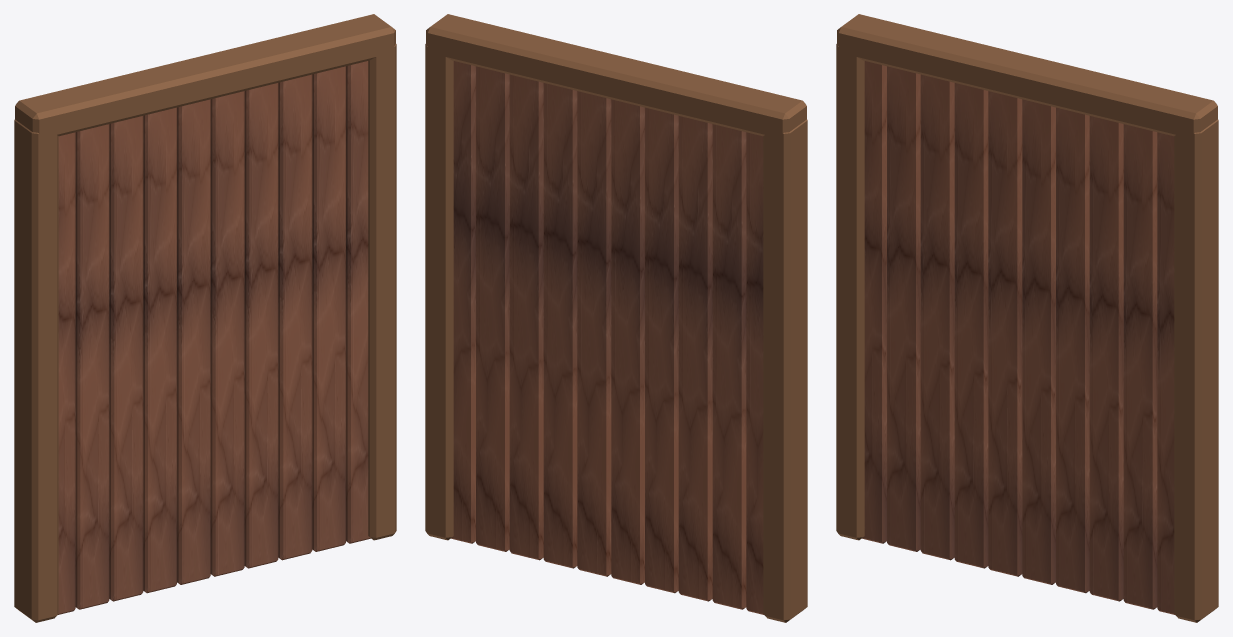
Rendered from Wall_Solid_2m.glb.
3 renders of one model, left to right at view 1: azimuth 30°, elevation 25°; view 2: azimuth 150°, elevation 25°; view 3: azimuth 330°, elevation 25°, orthographic.
Visible parts, largest first — view 1: Wall_Solid_2m__立方体.010, Wall_Solid_2m__立方体.012, Wall_Solid_2m__立方体.001, Wall_Solid_2m__立方体.005, Wall_Solid_2m__立方体.006, Wall_Solid_2m__立方体.007, Wall_Solid_2m__立方体.002, Wall_Solid_2m__立方体.004, Wall_Solid_2m__立方体.003, Wall_Solid_2m__立方体.008, Wall_Solid_2m__立方体.011, Wall_Solid_2m__立方体.009 (+1 smaller); view 2: Wall_Solid_2m__立方体.010, Wall_Solid_2m__立方体.012, Wall_Solid_2m__立方体.001, Wall_Solid_2m__立方体.005, Wall_Solid_2m__立方体.006, Wall_Solid_2m__立方体.007, Wall_Solid_2m__立方体.002, Wall_Solid_2m__立方体.004, Wall_Solid_2m__立方体.003, Wall_Solid_2m__立方体.008, Wall_Solid_2m__立方体.011, Wall_Solid_2m__立方体.009 (+1 smaller); view 3: Wall_Solid_2m__立方体.011, Wall_Solid_2m__立方体.012, Wall_Solid_2m__立方体.002, Wall_Solid_2m__立方体.003, Wall_Solid_2m__立方体.004, Wall_Solid_2m__立方体.008, Wall_Solid_2m__立方体.007, Wall_Solid_2m__立方体.005, Wall_Solid_2m__立方体.001, Wall_Solid_2m__立方体.006, Wall_Solid_2m__立方体.010, Wall_Solid_2m__立方体 (+1 smaller).
Boxes of the visible parts, left/top/right/bottom form: Wall_Solid_2m__立方体.010: left=14, top=119, right=58, bottom=622; Wall_Solid_2m__立方体.012: left=15, top=14, right=395, bottom=138; Wall_Solid_2m__立方体.001: left=75, top=124, right=109, bottom=609; Wall_Solid_2m__立方体.005: left=210, top=91, right=244, bottom=576; Wall_Solid_2m__立方体.006: left=244, top=83, right=278, bottom=568; Wall_Solid_2m__立方体.007: left=278, top=74, right=312, bottom=560; Wall_Solid_2m__立方体.002: left=109, top=116, right=143, bottom=601; Wall_Solid_2m__立方体.004: left=177, top=99, right=210, bottom=584; Wall_Solid_2m__立方体.003: left=143, top=107, right=176, bottom=593; Wall_Solid_2m__立方体.008: left=312, top=66, right=345, bottom=551; Wall_Solid_2m__立方体.011: left=368, top=44, right=396, bottom=540; Wall_Solid_2m__立方体.009: left=346, top=61, right=370, bottom=543; Wall_Solid_2m__立方体.010: left=763, top=119, right=807, bottom=622; Wall_Solid_2m__立方体.012: left=426, top=14, right=806, bottom=138; Wall_Solid_2m__立方体.001: left=712, top=124, right=746, bottom=609; Wall_Solid_2m__立方体.005: left=577, top=91, right=611, bottom=576; Wall_Solid_2m__立方体.006: left=543, top=83, right=577, bottom=568; Wall_Solid_2m__立方体.007: left=509, top=74, right=543, bottom=560; Wall_Solid_2m__立方体.002: left=678, top=116, right=712, bottom=601; Wall_Solid_2m__立方体.004: left=611, top=99, right=644, bottom=584; Wall_Solid_2m__立方体.003: left=645, top=107, right=678, bottom=593; Wall_Solid_2m__立方体.008: left=476, top=66, right=509, bottom=551; Wall_Solid_2m__立方体.011: left=425, top=44, right=453, bottom=540; Wall_Solid_2m__立方体.009: left=451, top=61, right=475, bottom=543; Wall_Solid_2m__立方体.011: left=1174, top=119, right=1218, bottom=622; Wall_Solid_2m__立方体.012: left=837, top=14, right=1217, bottom=138; Wall_Solid_2m__立方体.002: left=920, top=74, right=954, bottom=560; Wall_Solid_2m__立方体.003: left=954, top=83, right=988, bottom=568; Wall_Solid_2m__立方体.004: left=988, top=91, right=1022, bottom=576; Wall_Solid_2m__立方体.008: left=1123, top=124, right=1157, bottom=609; Wall_Solid_2m__立方体.007: left=1089, top=116, right=1123, bottom=601; Wall_Solid_2m__立方体.005: left=1022, top=99, right=1055, bottom=584; Wall_Solid_2m__立方体.001: left=887, top=66, right=920, bottom=551; Wall_Solid_2m__立方体.006: left=1056, top=107, right=1089, bottom=593; Wall_Solid_2m__立方体.010: left=836, top=44, right=864, bottom=540; Wall_Solid_2m__立方体: left=862, top=61, right=886, bottom=543.
Bounding box in the file's own units: 2.16 × 2.88 × 0.23.
Materials: 6 (5 with a texture image).
